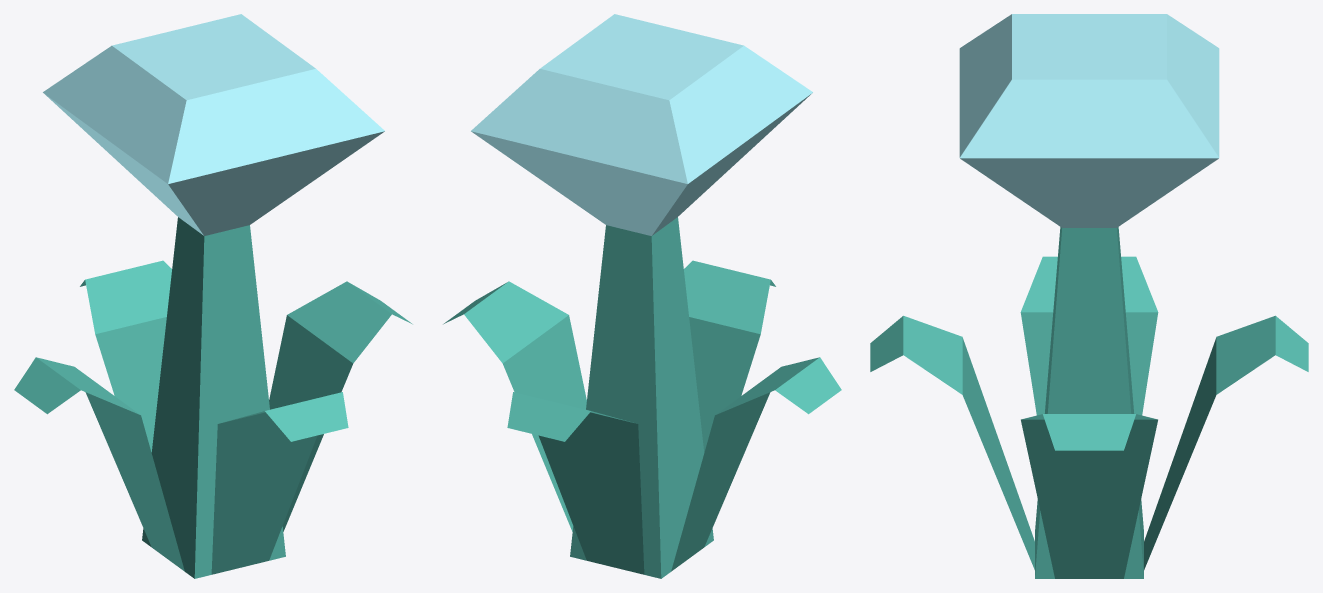
File: flower_blue2.fbx
3 renders of one model, left to right at view 1: azimuth 30°, elevation 25°; view 2: azimuth 150°, elevation 25°; view 3: azimuth 270°, elevation 25°, orthographic. The views are drawn at different scales.
Parts seen in each view (by area): view 1: flower_blue2; view 2: flower_blue2; view 3: flower_blue2.
Part boxes in pixels (x1,y1,x2,y2): flower_blue2: [14, 14, 412, 578]; flower_blue2: [443, 14, 841, 578]; flower_blue2: [870, 14, 1308, 578].
Size of the model in its own units: 1.71 by 2.2 by 1.71.
